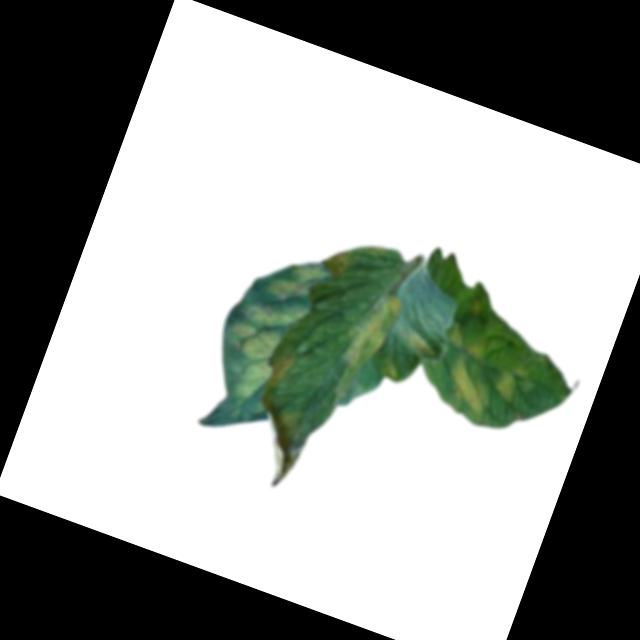Leaf_Mold: (210, 243, 331, 415), (340, 286, 407, 380), (439, 353, 501, 418), (259, 349, 299, 415), (490, 359, 533, 408), (445, 323, 492, 361), (405, 330, 438, 362)
